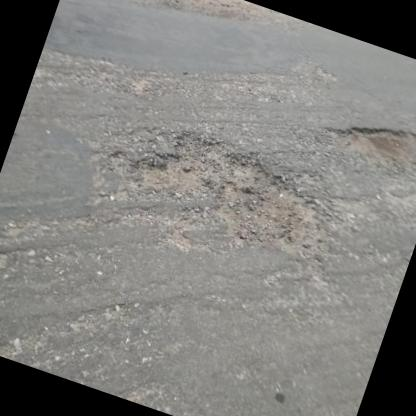pothole: (95, 102, 342, 266), (317, 103, 416, 188)
